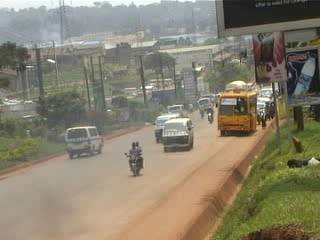Motorcycle: (123, 140, 144, 177), (205, 105, 215, 124)
